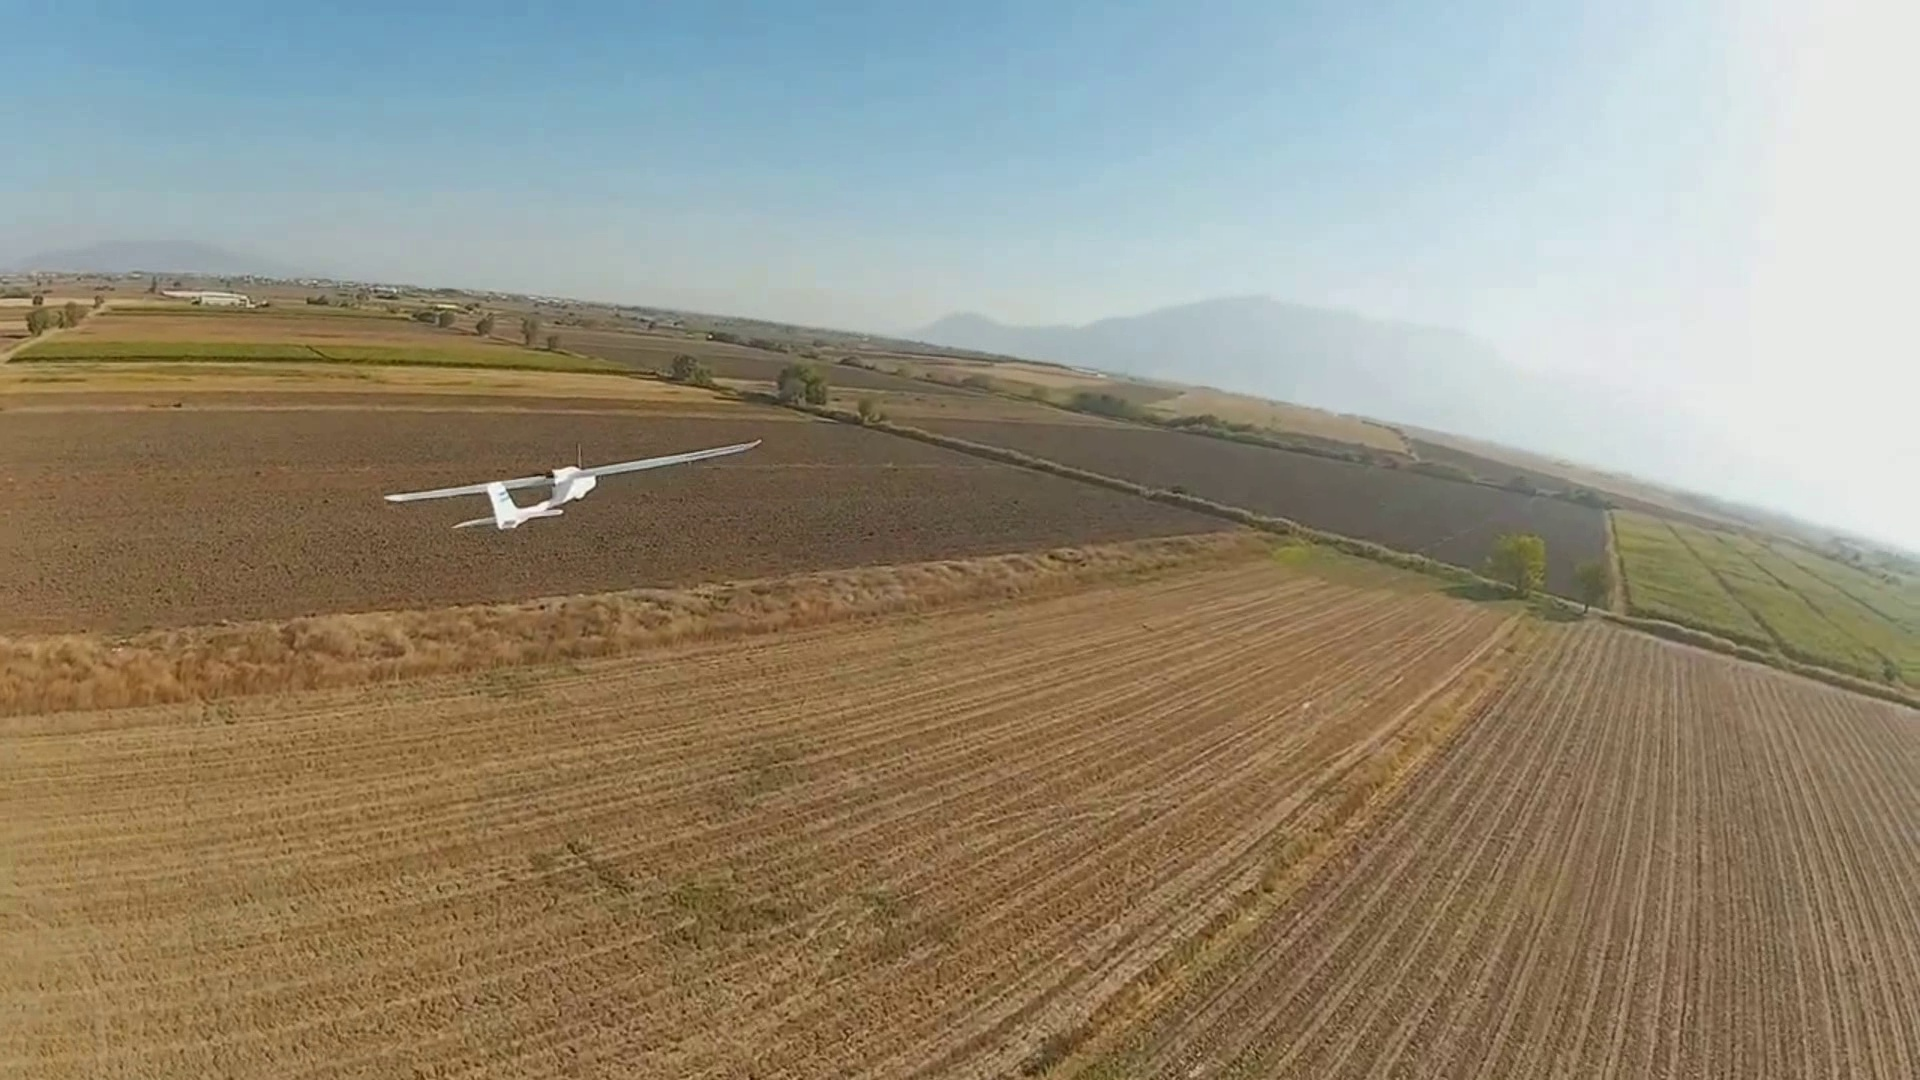airplane: (382, 436, 762, 531)
